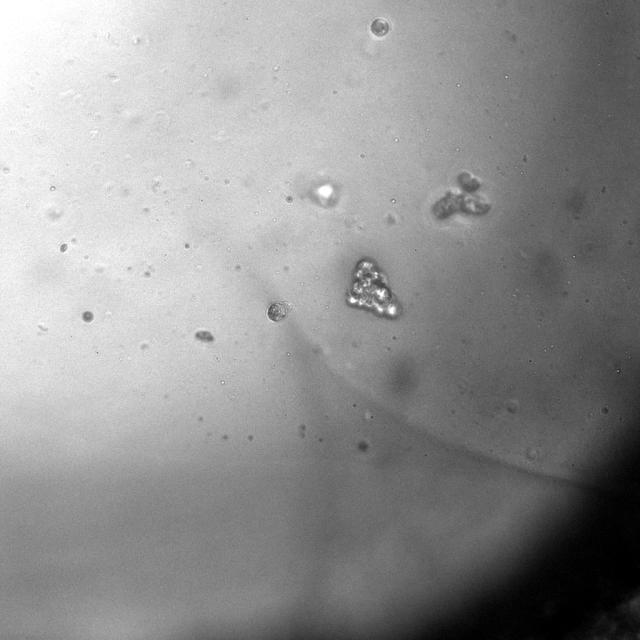organoid: (348, 259, 398, 316), (434, 171, 491, 218), (267, 301, 290, 323), (369, 18, 389, 37), (195, 330, 213, 341), (82, 311, 94, 321), (60, 242, 68, 253), (284, 195, 294, 203)
